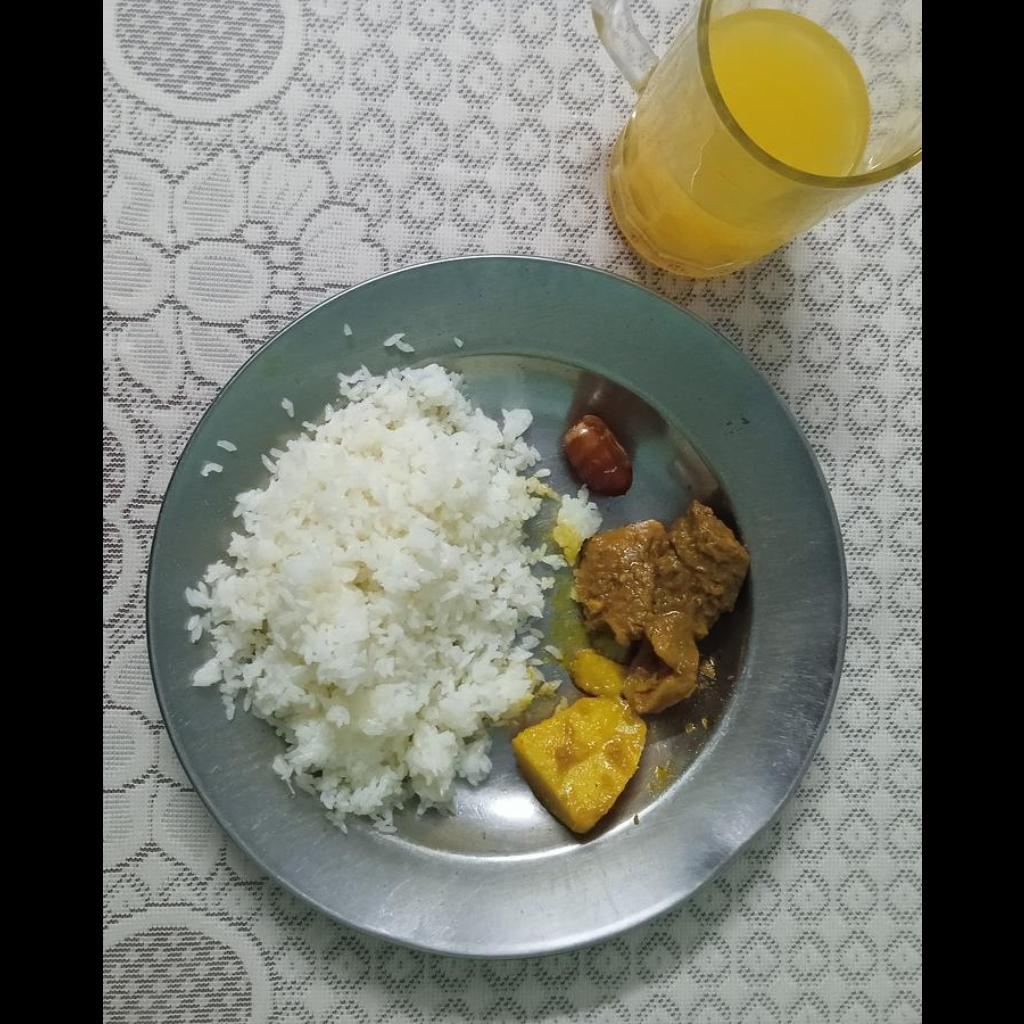beef: (567, 505, 741, 700)
dates: (565, 412, 633, 494)
juice: (708, 13, 864, 186)
potato: (513, 697, 645, 833)
rice: (201, 373, 549, 806)
